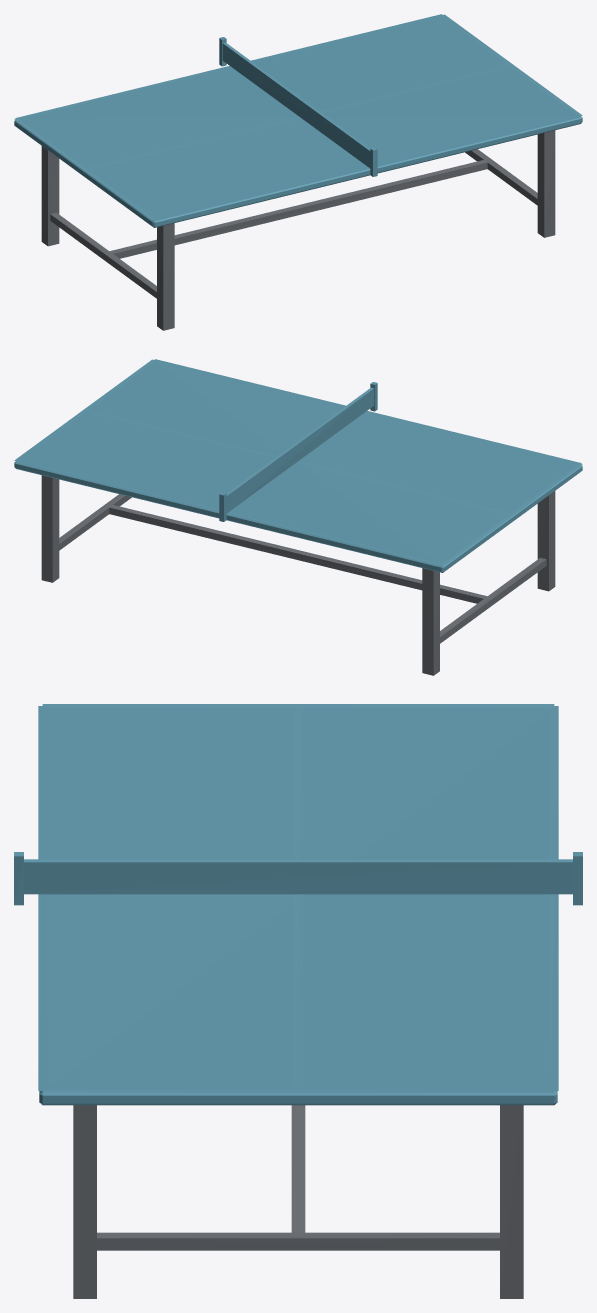
The model's file is table-tennis-table-00.glb.
The picture shows the model from 3 angles, top to bottom: view 1: azimuth 30°, elevation 25°; view 2: azimuth 150°, elevation 25°; view 3: azimuth 270°, elevation 25°; orthographic projection. The views are drawn at different scales.
Parts seen in each view (by area): view 1: table_tennis_table_00; view 2: table_tennis_table_00; view 3: table_tennis_table_00.
Part boxes in pixels (x1,y1,x2,y2): table_tennis_table_00: [14, 14, 582, 330]; table_tennis_table_00: [14, 359, 582, 675]; table_tennis_table_00: [14, 704, 582, 1298].
Bounding box in the file's own units: 2.72 × 0.8751 × 1.69.
